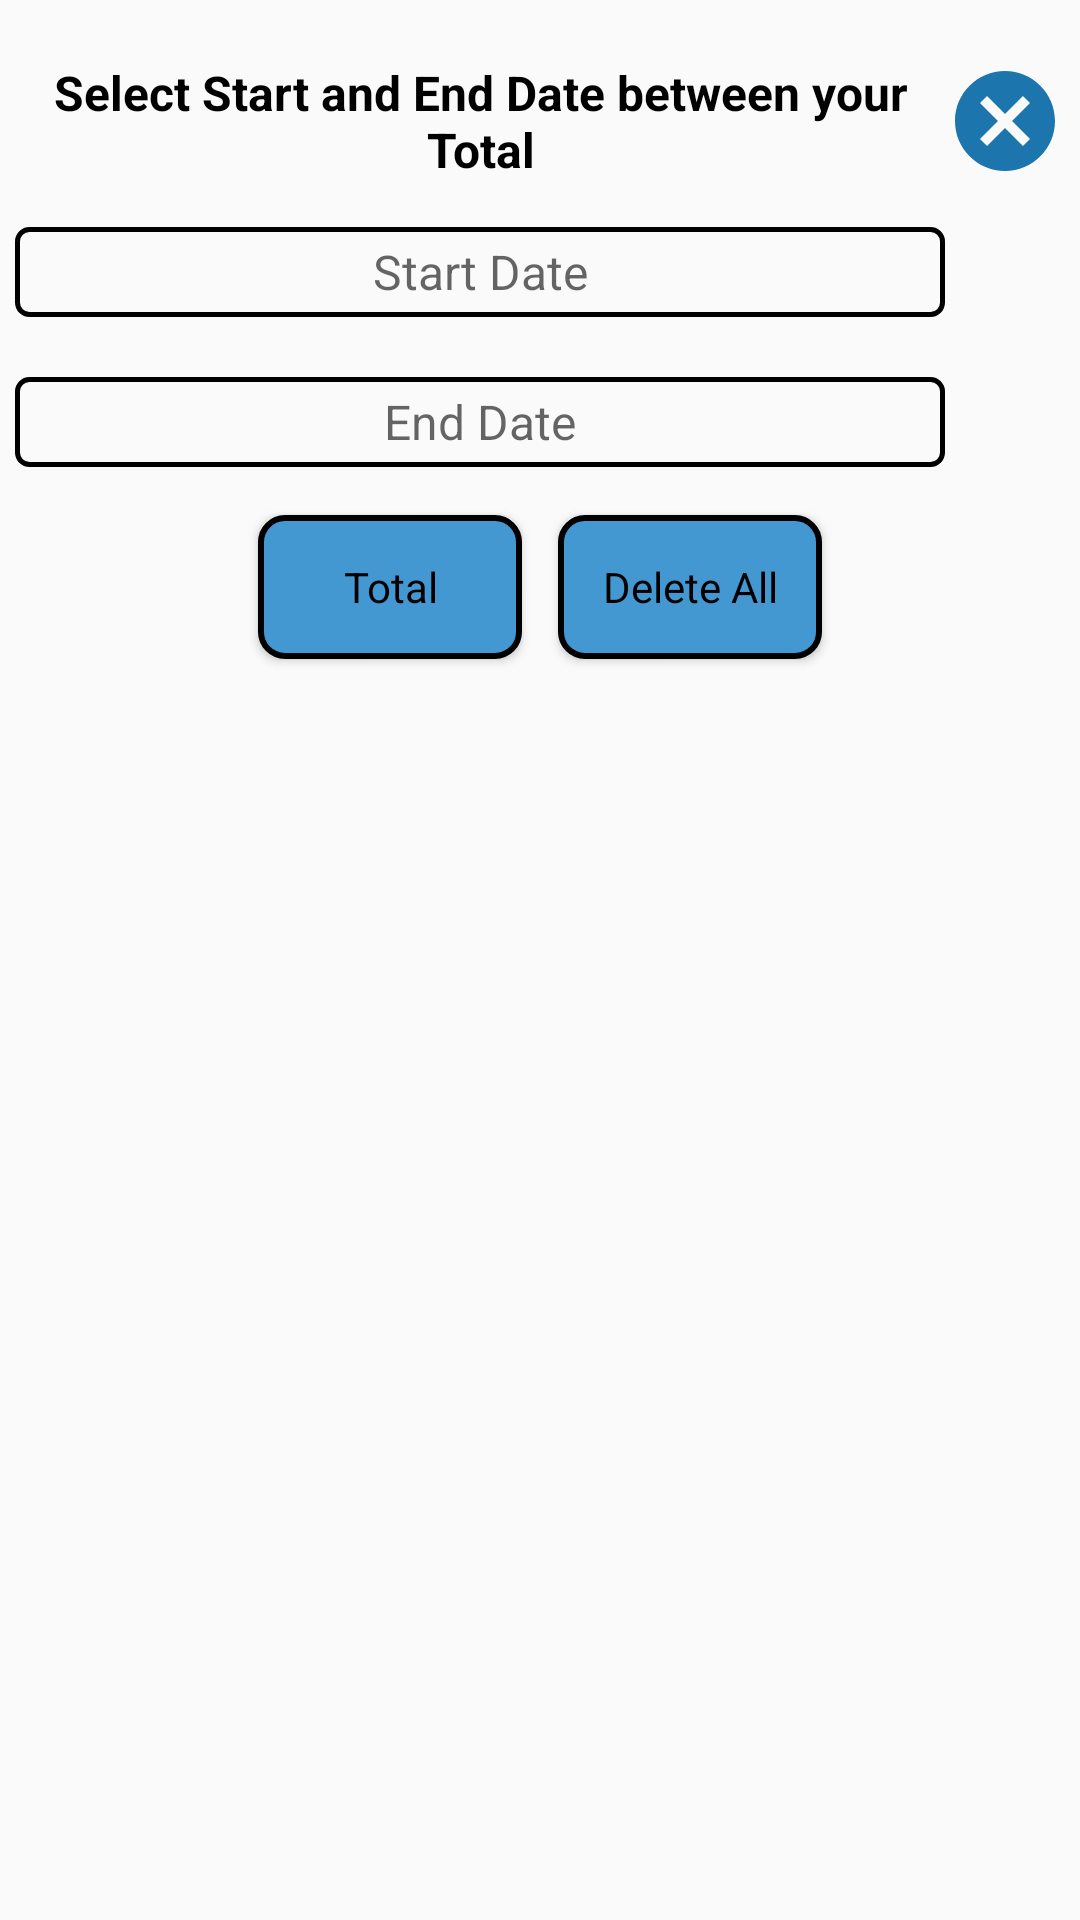

Named icons in this screenshot (1080*1920) and their bounding boxes, (x1, y1, x2, y2):
cancel: (955, 71, 1055, 171)
